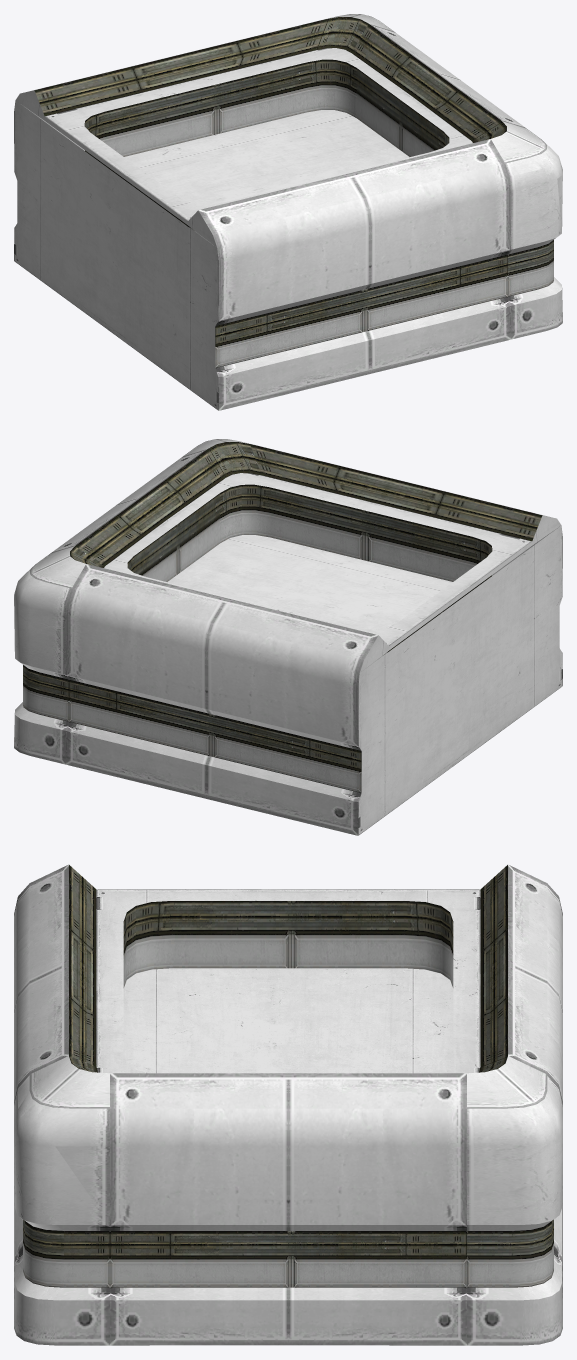
The model's file is Emb_BalconyPlanter_Cap_01.FBX.
3 views of the same model, one above another, from view 1: azimuth 30°, elevation 25°; view 2: azimuth 150°, elevation 25°; view 3: azimuth 270°, elevation 25° (orthographic). The views are drawn at different scales.
Visible parts, largest first — view 1: Emb_BalconyPlanter_Cap_01; view 2: Emb_BalconyPlanter_Cap_01; view 3: Emb_BalconyPlanter_Cap_01.
Part boxes in pixels (<box>): Emb_BalconyPlanter_Cap_01: <box>14,14,562,410</box>; Emb_BalconyPlanter_Cap_01: <box>14,439,562,835</box>; Emb_BalconyPlanter_Cap_01: <box>14,864,562,1345</box>.
Size of the model in its own units: 2 by 1 by 2.
